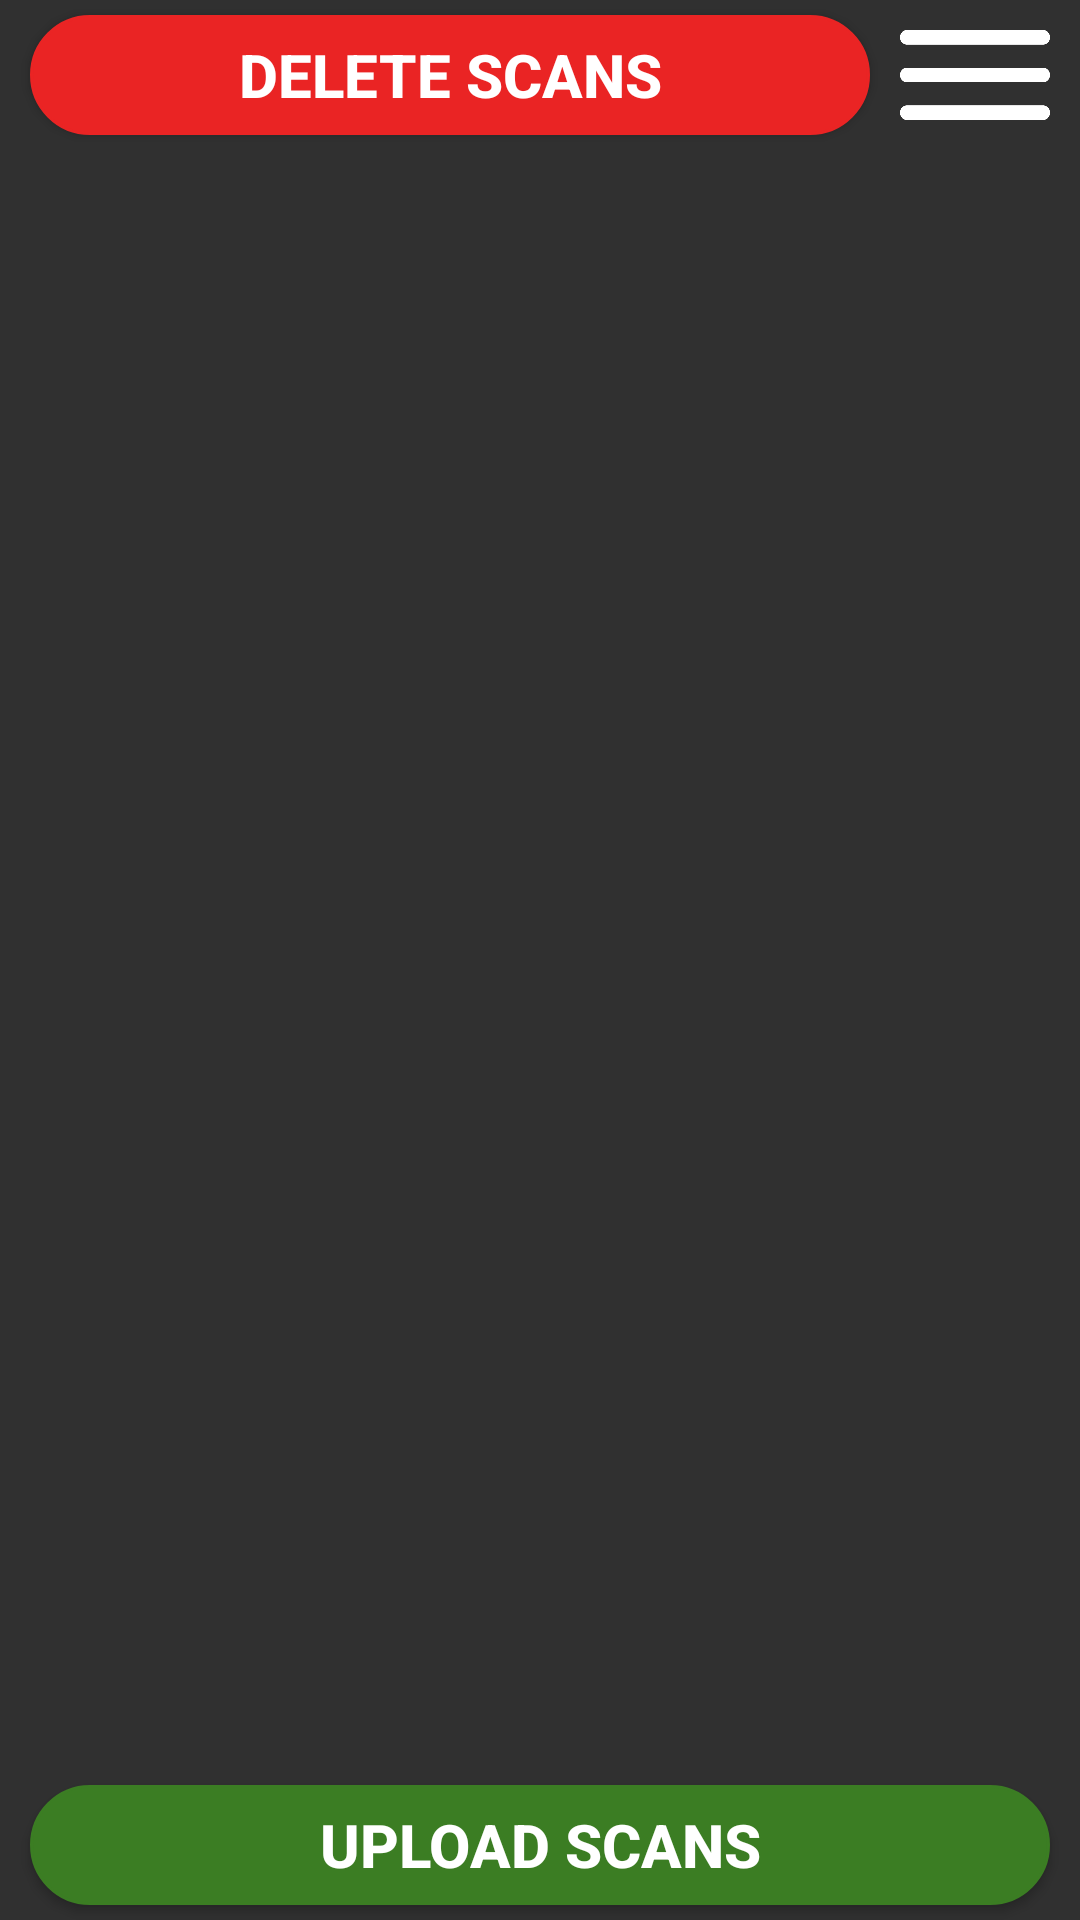

Locate icon controls on the screen. Image size 1080px×1920px, boxes as (x1, y1, x2, y2).
menu: (900, 30, 1050, 120)
